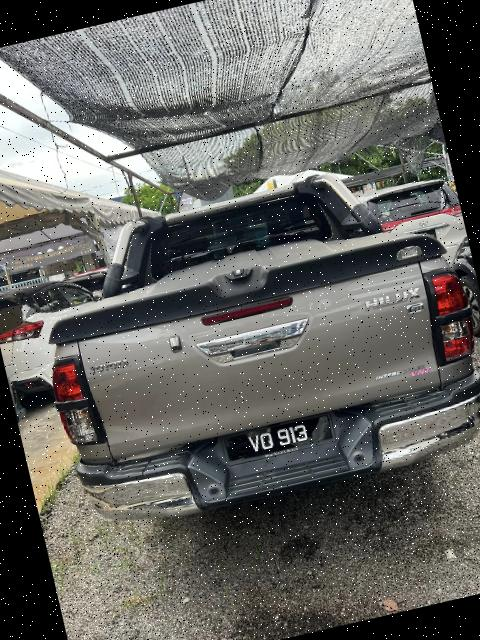License_Plate: (234, 417, 325, 467)
